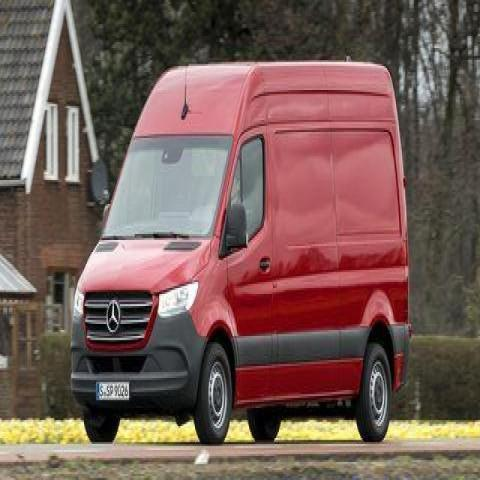van: (71, 58, 412, 446)
